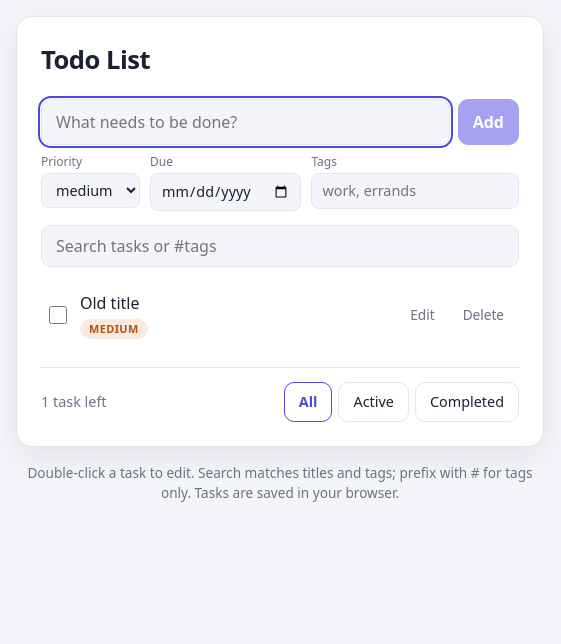
Test: completing, editing and deleting › renames a task via the Edit button and discards on Cancel
Step 1. Click the button "Edit" → (422, 315), box 399,300 -> 446,330
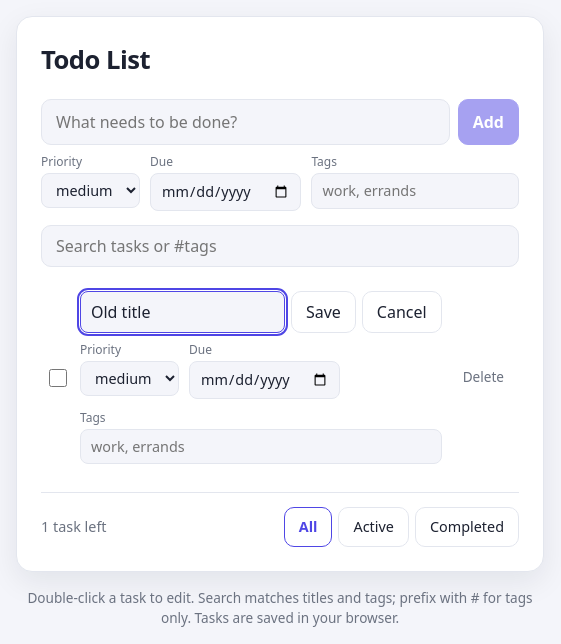
Step 2. Replace the text in the field named "Edit task title" with "New title" → (182, 312), box 80,291 -> 285,333
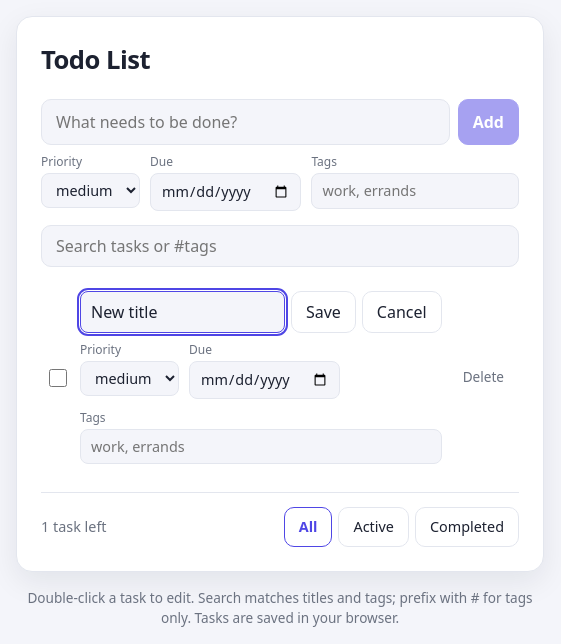
Step 3. Press Enter
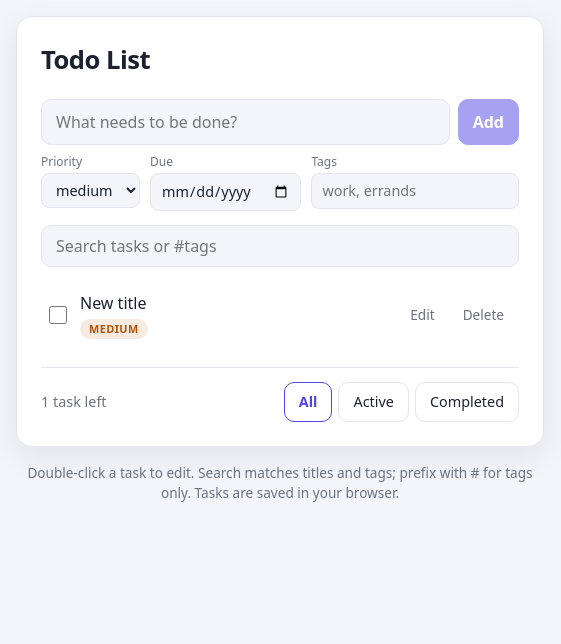
Expected: the text "New title" is shown, 80,292 -> 146,314
Step 4. Click the button "Edit" → (422, 315), box 399,300 -> 446,330
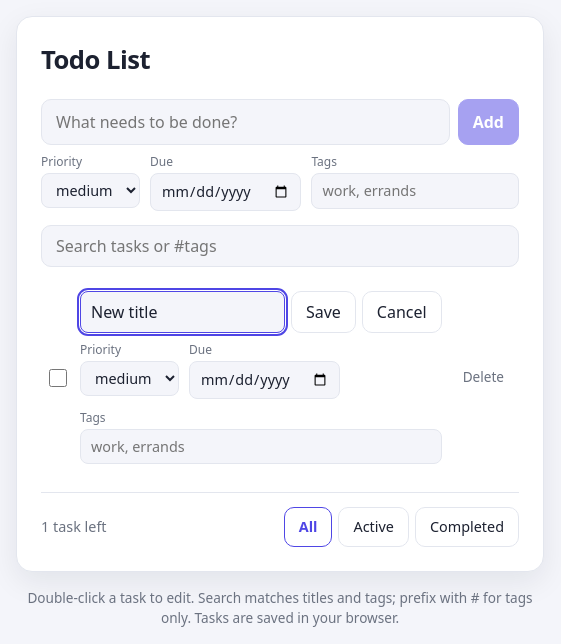
Step 5. Replace the text in the field named "Edit task title" with "Discarded" → (182, 312), box 80,291 -> 285,333
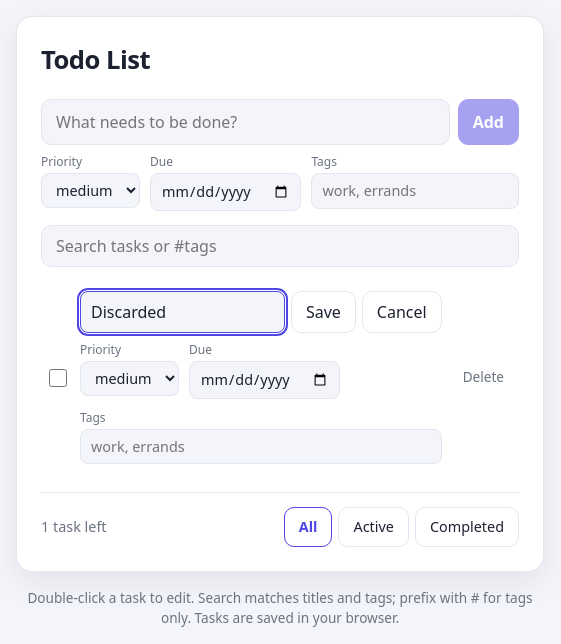
Step 6. Click the button "Cancel" → (402, 312), box 362,291 -> 442,333
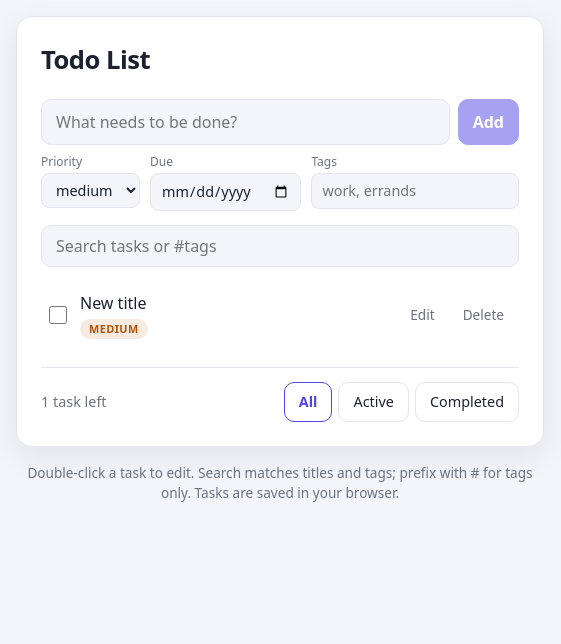
Expected: the text "Discarded" is not shown
Expected: the text "New title" is shown, 80,292 -> 146,314
